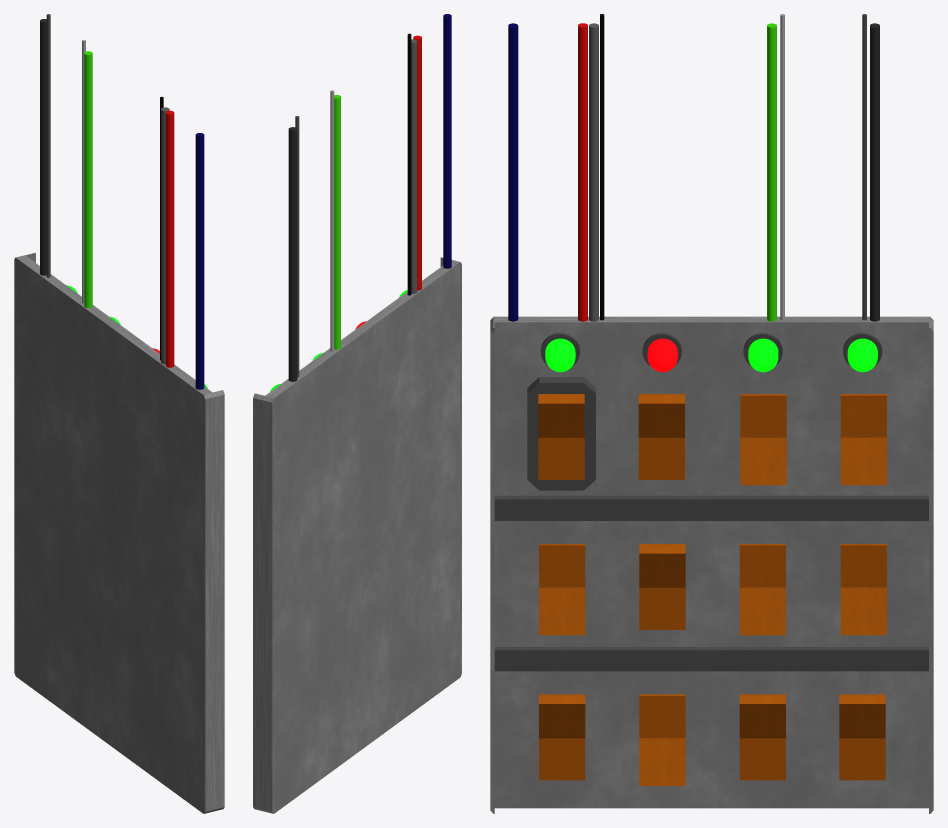
File: Final_Filler_Switch panel 2.glb
3 renders of one model, left to right at view 1: azimuth 30°, elevation 25°; view 2: azimuth 150°, elevation 25°; view 3: azimuth 270°, elevation 25°, orthographic. The views are drawn at different scales.
Parts seen in each view (by area): view 1: Cube, Cylinder.008, Cylinder.014, Cylinder.012, Cylinder.013, Cylinder.015, Cylinder.009, Cylinder.011; view 2: Cube, Cylinder.013, Cylinder.014, Cylinder.012, Cylinder.009, Cylinder.010, Cylinder.011, Cylinder.008, Cylinder.015; view 3: Cube, Cube.014, Cube.004, Cube.011, Cube.005, Cube.006, Cube.007, Cube.009, Cube.013, Cube.010, Cube.012, Cube.002 (+15 smaller).
Part boxes in pixels (left/top/right/bottom): Cube: left=14, top=253, right=224, bottom=813; Cylinder.008: left=165, top=110, right=174, bottom=367; Cylinder.014: left=195, top=133, right=204, bottom=389; Cylinder.012: left=84, top=51, right=92, bottom=307; Cylinder.013: left=40, top=19, right=46, bottom=275; Cylinder.015: left=46, top=14, right=50, bottom=277; Cylinder.009: left=161, top=107, right=169, bottom=364; Cylinder.011: left=82, top=40, right=85, bottom=303; Cube: left=253, top=257, right=461, bottom=813; Cylinder.013: left=288, top=127, right=297, bottom=381; Cylinder.014: left=443, top=14, right=451, bottom=268; Cylinder.012: left=334, top=95, right=340, bottom=349; Cylinder.009: left=411, top=39, right=417, bottom=293; Cylinder.010: left=407, top=33, right=411, bottom=295; Cylinder.011: left=330, top=90, right=334, bottom=351; Cylinder.008: left=413, top=35, right=421, bottom=290; Cylinder.015: left=295, top=116, right=299, bottom=377; Cube: left=490, top=316, right=933, bottom=813; Cube.014: left=494, top=495, right=928, bottom=671; Cube.004: left=740, top=394, right=786, bottom=485; Cube.011: left=639, top=694, right=685, bottom=785; Cube.005: left=840, top=394, right=886, bottom=485; Cube.006: left=840, top=544, right=886, bottom=635; Cube.007: left=739, top=544, right=785, bottom=635; Cube.009: left=539, top=544, right=585, bottom=635; Cube.013: left=839, top=694, right=885, bottom=780; Cube.010: left=539, top=694, right=585, bottom=780; Cube.012: left=739, top=694, right=785, bottom=780; Cube.002: left=538, top=394, right=584, bottom=479.
Bounding box in the file's own units: 0.8327 × 15.65 × 7.95.
17 materials, 17 textured.
